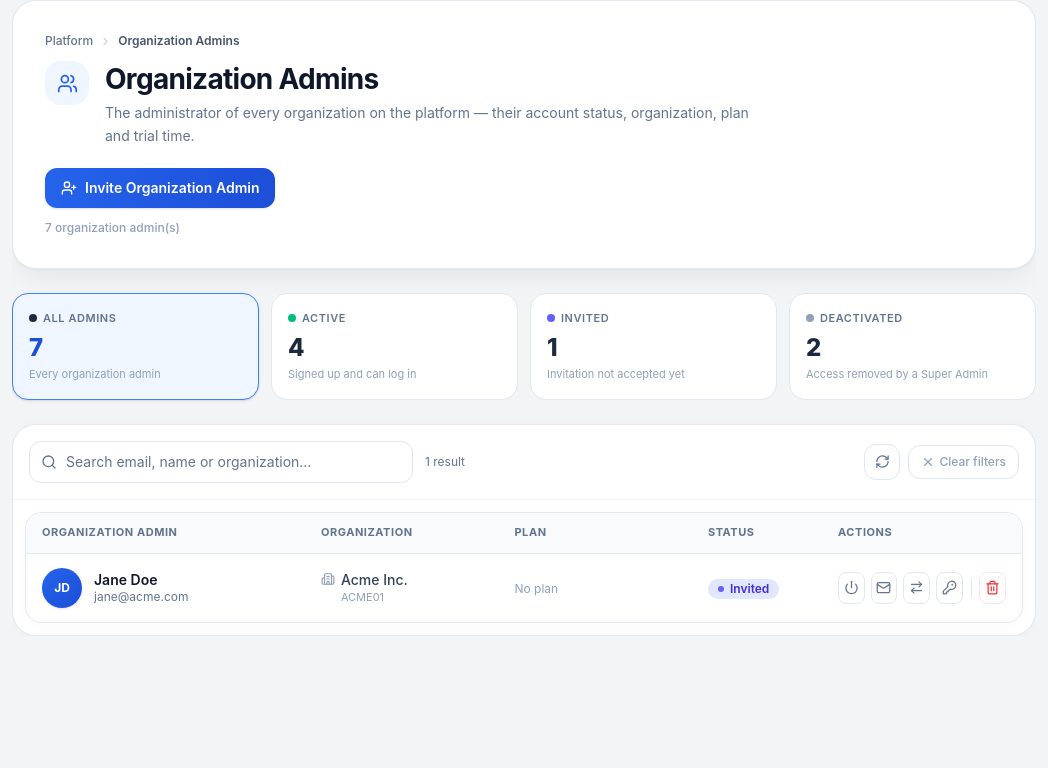
UsersPage row actions › shows a failed action as a banner without hiding the roster
What coordinates should you click on to do the following:
click the button named "send password reset link"
I would click on:
 (949, 588)
Its box is [936,572,962,604].
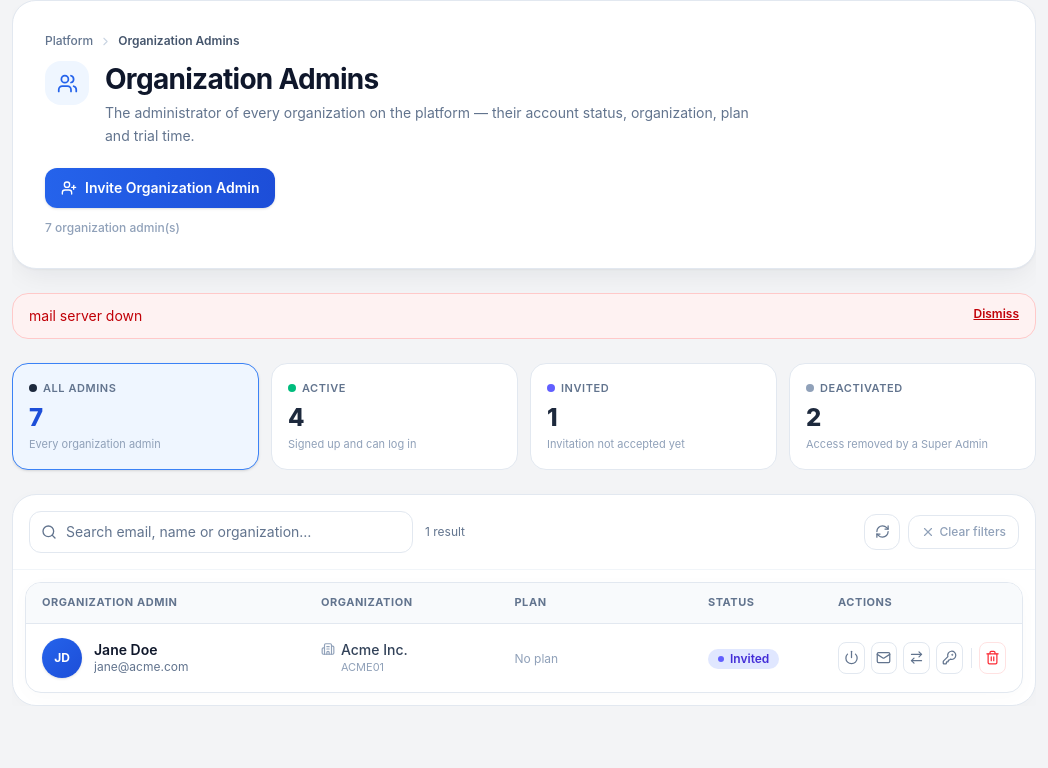
Expected: the text "Jane Doe" is shown, [94,641,157,658]
Expected: the message shows "mail server down", [29,307,142,324]
